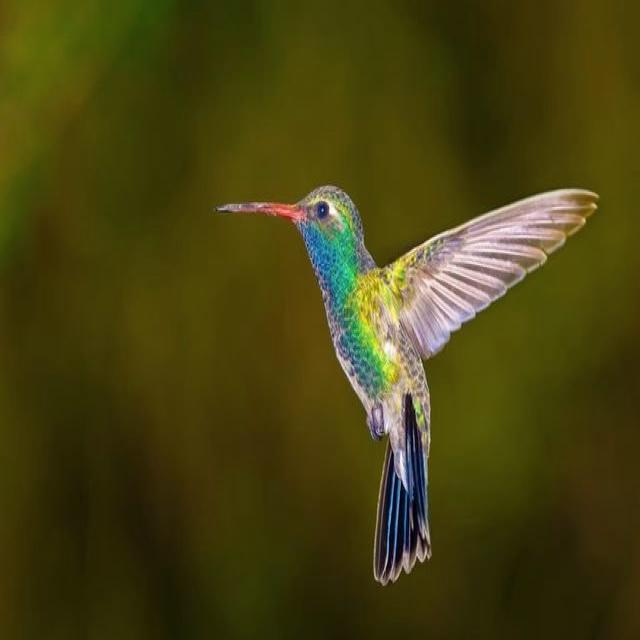hummingbird: (217, 186, 599, 583)
